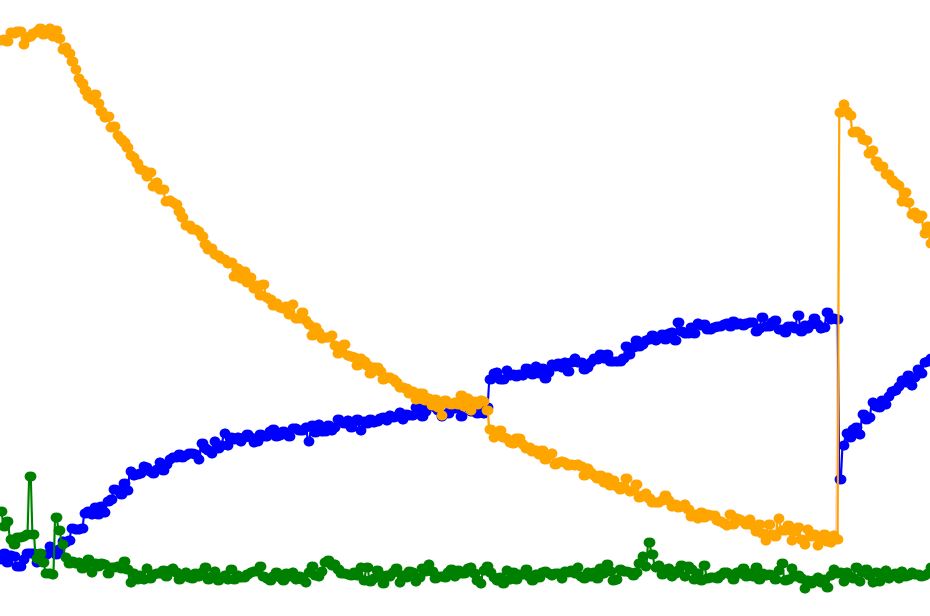CO2 Problem: (116, 0, 930, 616), (622, 0, 930, 616), (38, 0, 116, 616)
Condensation CO2: (116, 0, 349, 616), (38, 0, 116, 616)
Lid Open: (816, 0, 930, 616)
Low CO2: (272, 0, 930, 616), (311, 0, 622, 616), (622, 0, 930, 616), (116, 0, 349, 616), (38, 0, 116, 616)
Normal: (38, 0, 930, 616), (116, 0, 930, 616), (272, 0, 930, 616), (388, 0, 930, 616), (38, 0, 505, 616), (272, 0, 622, 616), (38, 0, 349, 616), (311, 0, 622, 616), (622, 0, 930, 616), (388, 0, 622, 616), (622, 0, 816, 616), (116, 0, 272, 616), (0, 0, 116, 616), (38, 0, 116, 616), (311, 0, 388, 616), (272, 0, 311, 616)
O2 Problem: (116, 0, 930, 616), (311, 0, 622, 616), (622, 0, 930, 616), (388, 0, 622, 616), (116, 0, 272, 616)
